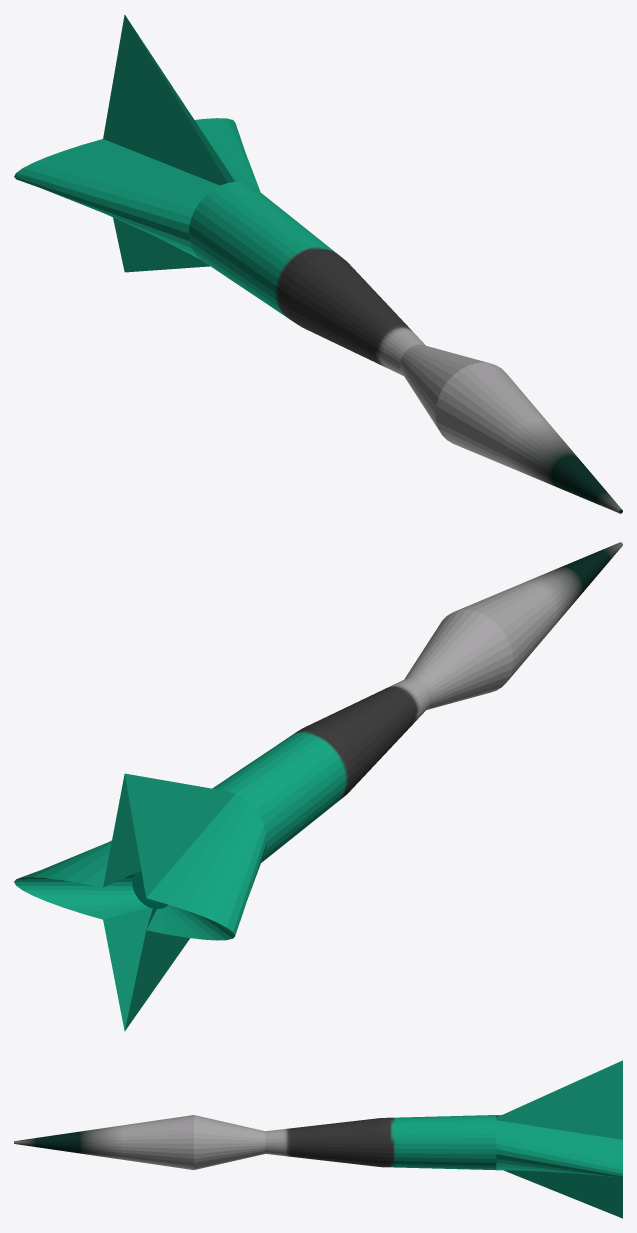
Rendered from demo3_dart.glb.
3 views of the same model, one above another, from view 1: azimuth 30°, elevation 25°; view 2: azimuth 150°, elevation 25°; view 3: azimuth 270°, elevation 25° (orthographic). The views are drawn at different scales.
Parts seen in each view (by area): view 1: Cylinder; view 2: Cylinder; view 3: Cylinder.
Boxes of the visible parts, box(x1,y1,x2,y2) form: Cylinder: box(14, 14, 622, 513); Cylinder: box(14, 542, 622, 1031); Cylinder: box(14, 1060, 622, 1218).
Size of the model in its own units: 0.4615 by 0.5146 by 1.79.
Materials: 1 (1 with a texture image).
